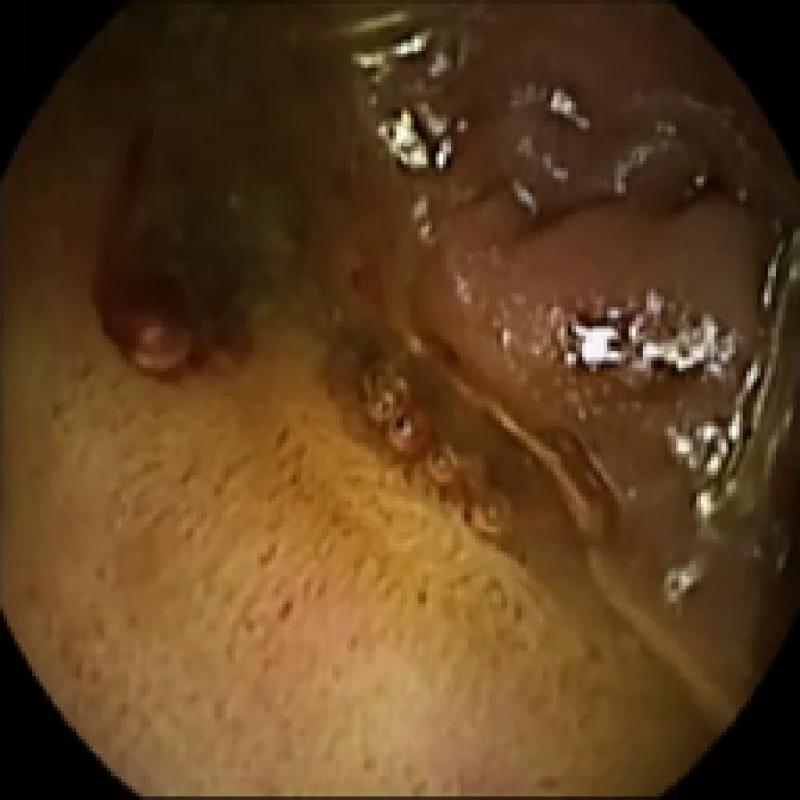bleeding: (82, 128, 236, 381)
